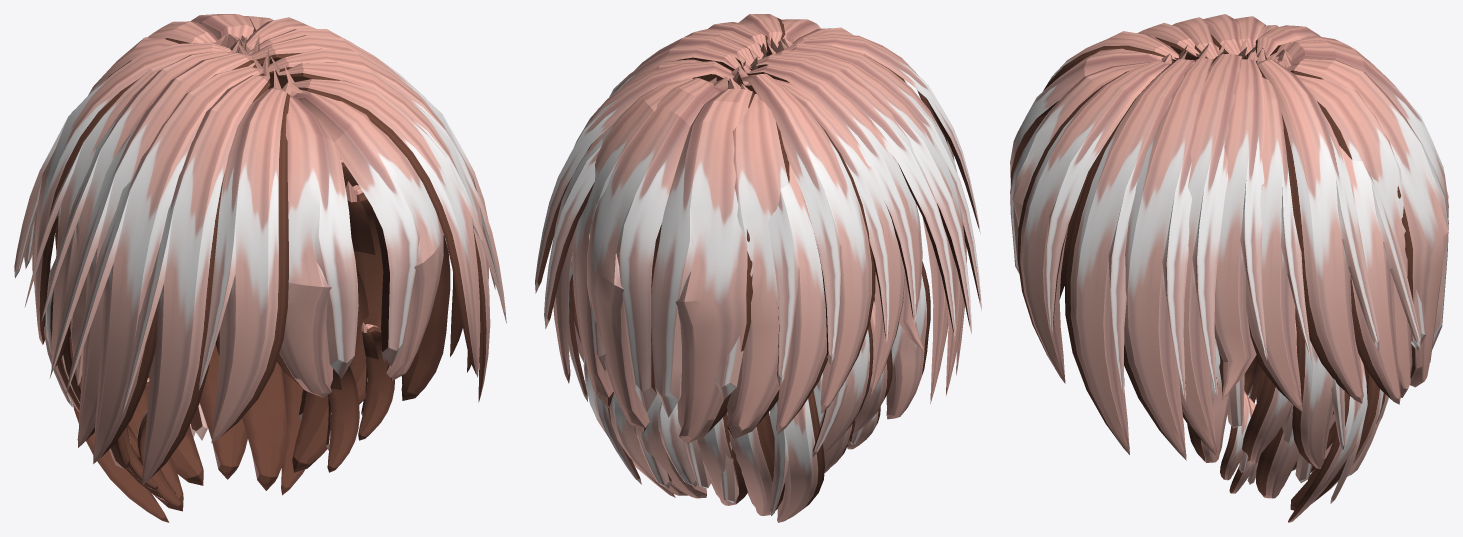
The model's file is PinkyInnerHairs.obj.
3 renders of one model, left to right at view 1: azimuth 30°, elevation 25°; view 2: azimuth 150°, elevation 25°; view 3: azimuth 270°, elevation 25°, orthographic. The views are drawn at different scales.
Parts seen in each view (by area): view 1: innerHair; view 2: innerHair; view 3: innerHair.
Boxes of the visible parts, x1,y1,x2,y2 form: innerHair: (14, 14, 506, 522); innerHair: (535, 14, 981, 522); innerHair: (1010, 14, 1448, 522).
Bounding box in the file's own units: 0.2326 × 0.252 × 0.2198.
Materials: 1 (1 with a texture image).
